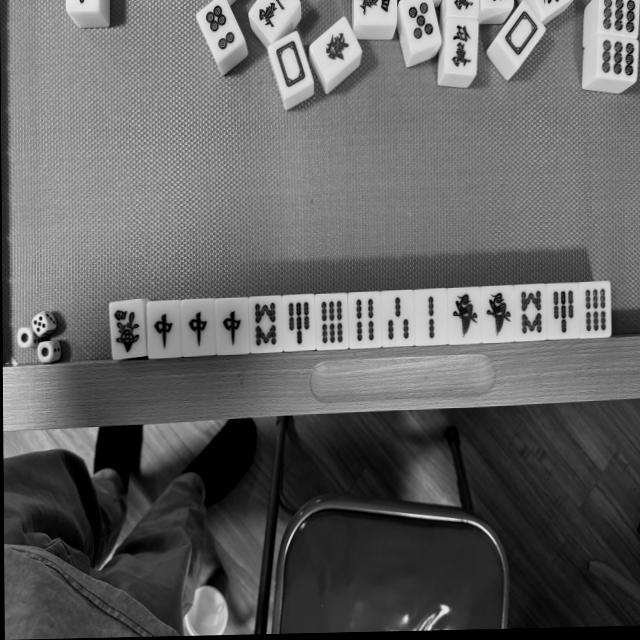ff4: (108, 299, 146, 359)
s1: (450, 290, 481, 344), (483, 288, 513, 342)
s2: (415, 291, 446, 344)
s3: (382, 294, 412, 347)
s4: (348, 293, 379, 347)
s6: (315, 295, 346, 349), (582, 284, 610, 337)
s7: (282, 296, 313, 350), (547, 285, 577, 338)
s8: (249, 298, 281, 353), (515, 287, 544, 339)
zhong: (145, 301, 180, 358), (215, 299, 249, 354), (181, 300, 214, 356)
